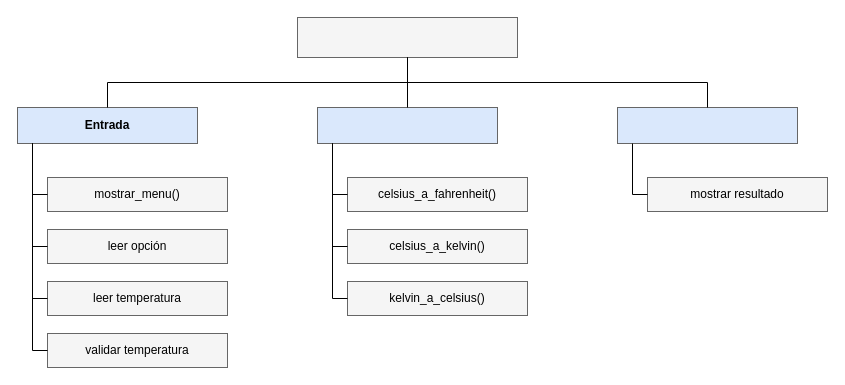
Some shapes in this 845 by 385 pixel diagram are drawn without their labels. The shapes that lost their labels are listed below. From the top down, each one's box as (x1, y1, x2, y2) in pixels, then its label:
(296, 16, 518, 58): Programa de temperaturas
(316, 106, 498, 144): Proceso
(616, 106, 798, 144): Salida
